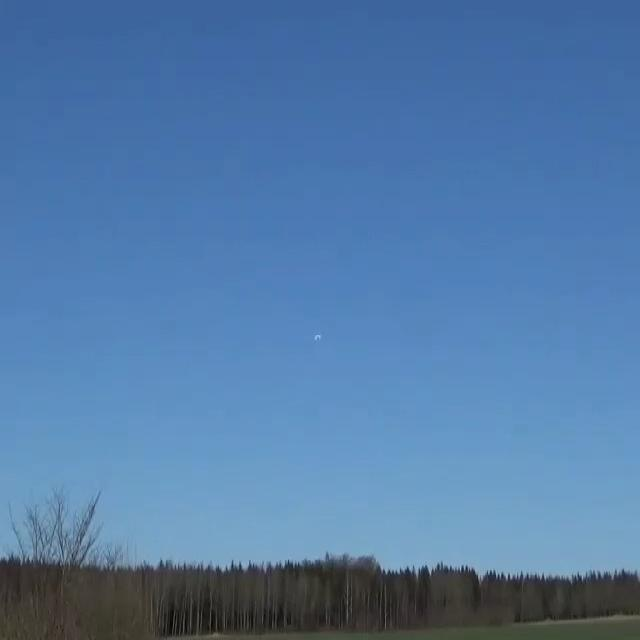drone: (313, 334, 322, 341)
